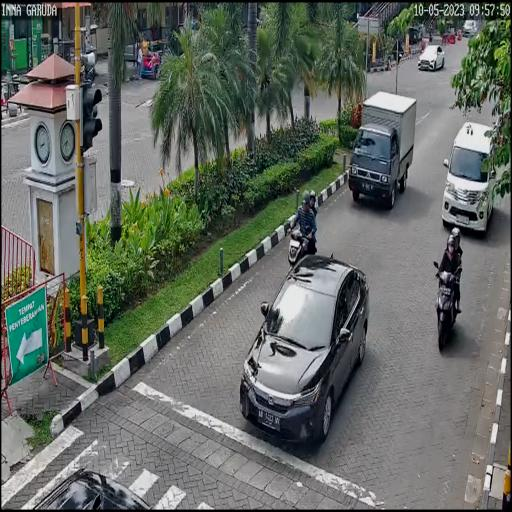mobil: (236, 248, 370, 455), (348, 88, 416, 211), (439, 120, 497, 234), (418, 40, 444, 78)
motor: (428, 256, 466, 357), (282, 220, 317, 268)
